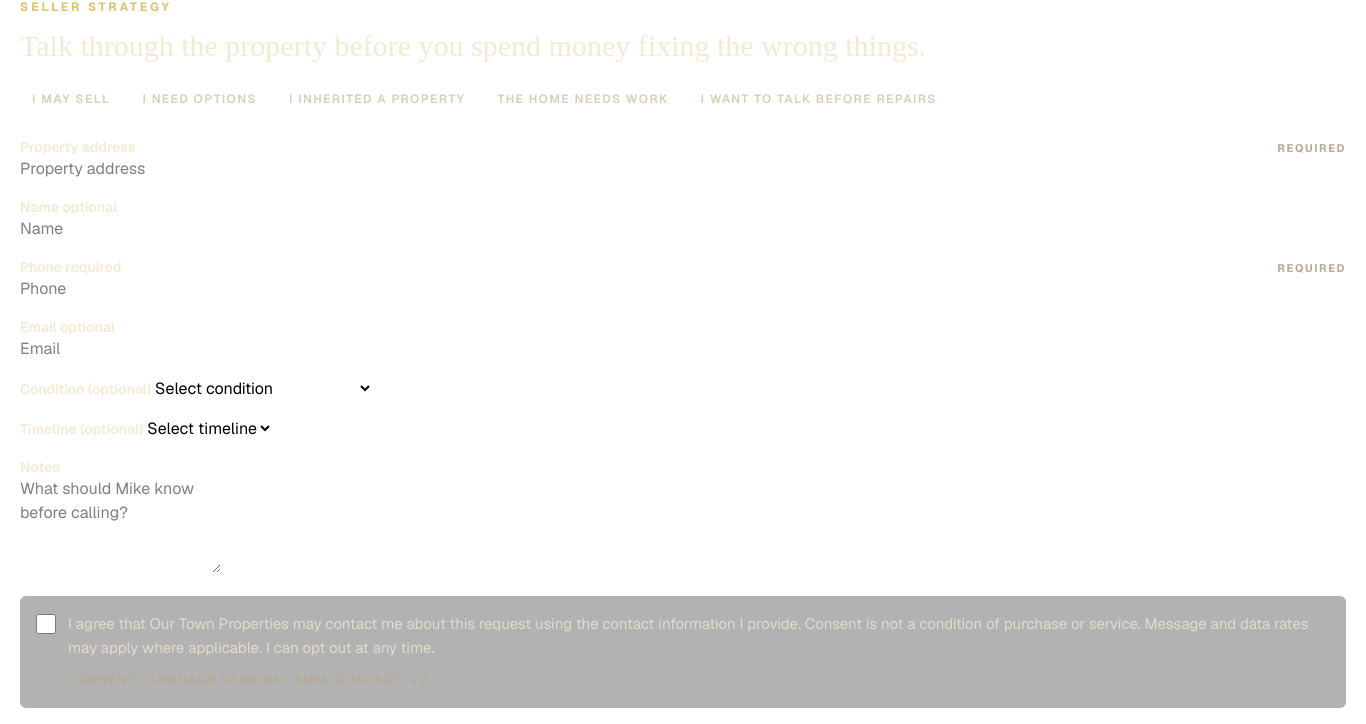
Test: seller funnel identity integrity › preserves eventless native values and uses a genuine saved receipt for the shared appointment CTA
Type "123 Synthetic Fixture Road, Wilson NC" into the field labelled "Property address" at (129, 168), box [20, 156, 238, 180]
Type "SYNTHETIC FIXTURE — NOT A CONSUMER" into the field labelled "Name optional" at (129, 228), box [20, 216, 238, 240]
Type "2525550194" into the field labelled "Phone required" at (129, 288), box [20, 276, 238, 300]
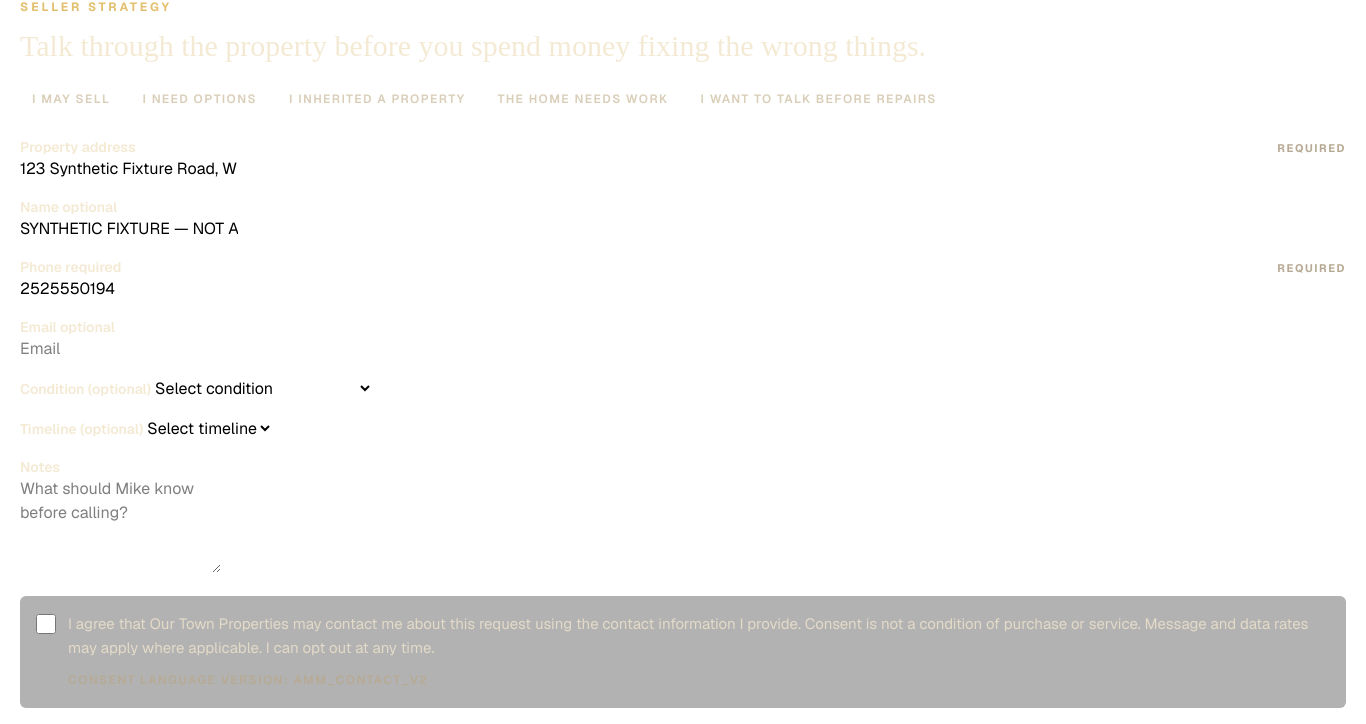
Replace the text in the field labelled "Name optional" with "SYNTHETIC native fixture" at (129, 228), box [20, 216, 238, 240]
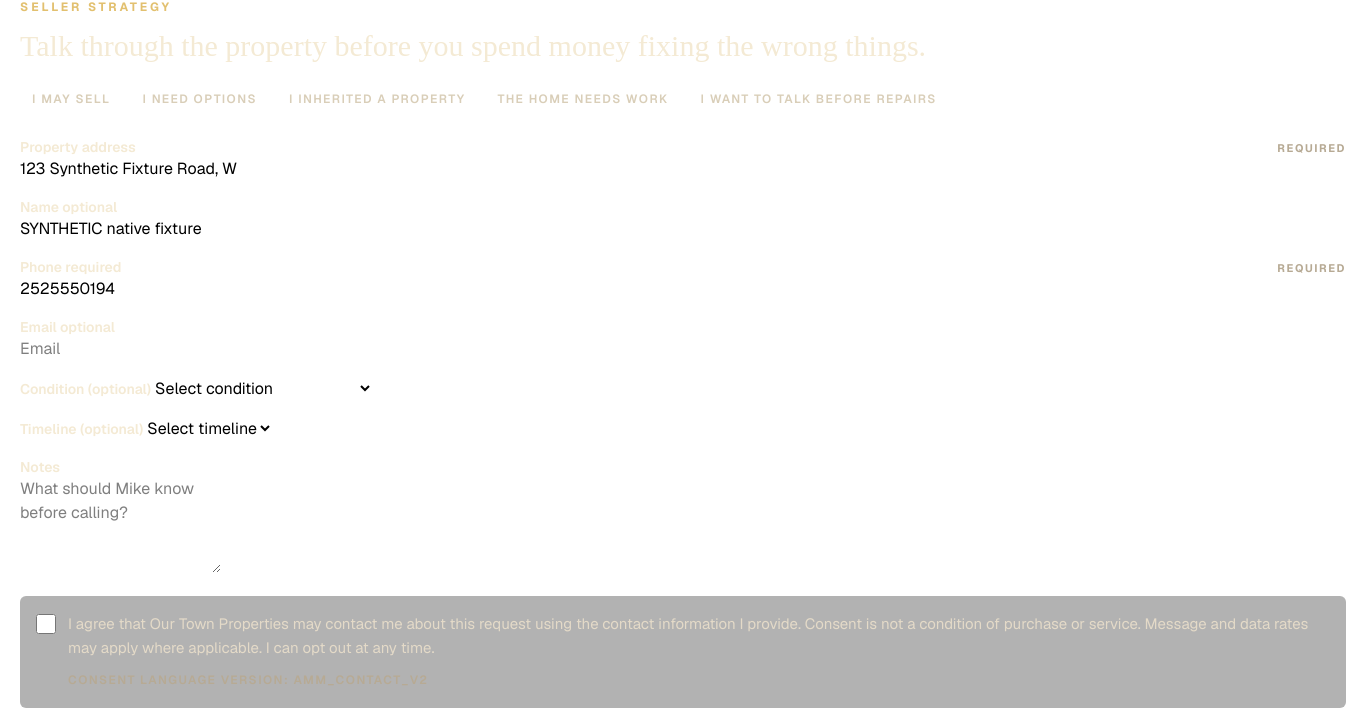
Type "seller-fixture@example.test" into the field labelled "Email optional" at (129, 348), box [20, 336, 238, 360]
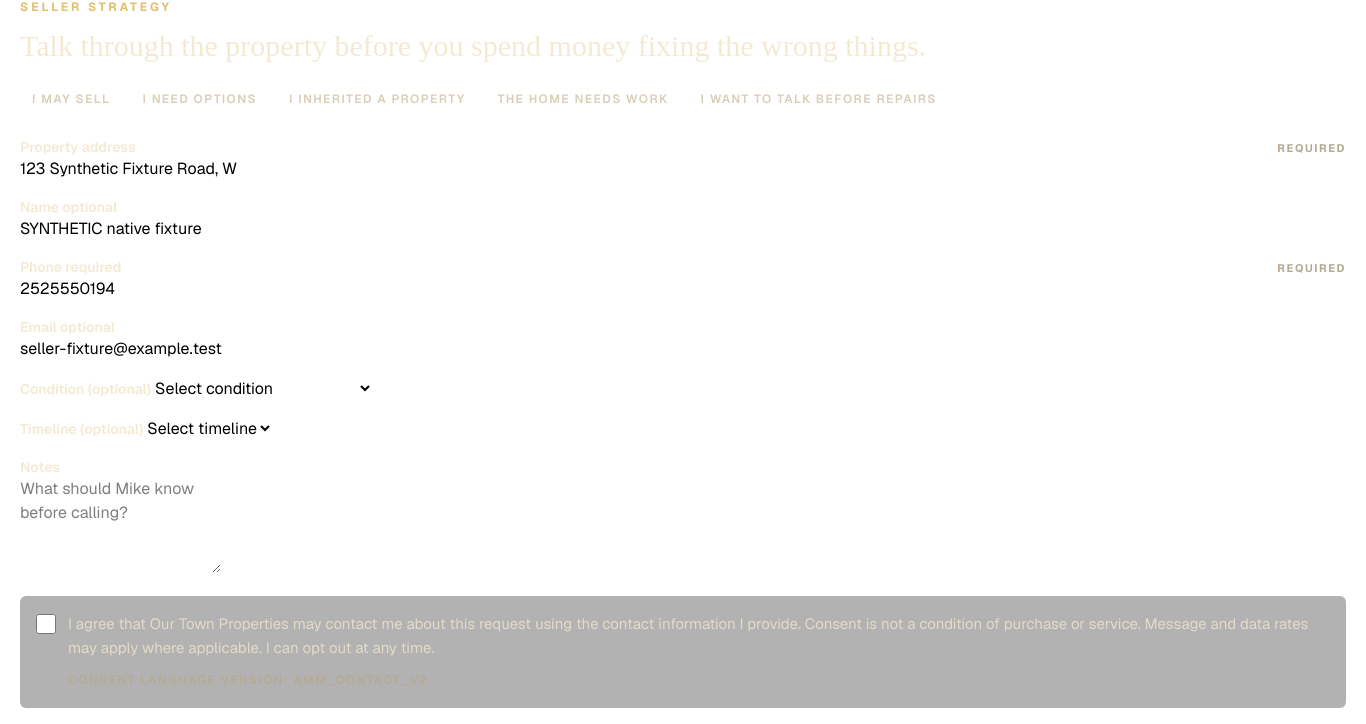
Click the checkbox labelled "Our Town Properties may contact me" at (46, 624), box [36, 614, 56, 634]
(page scrolled)
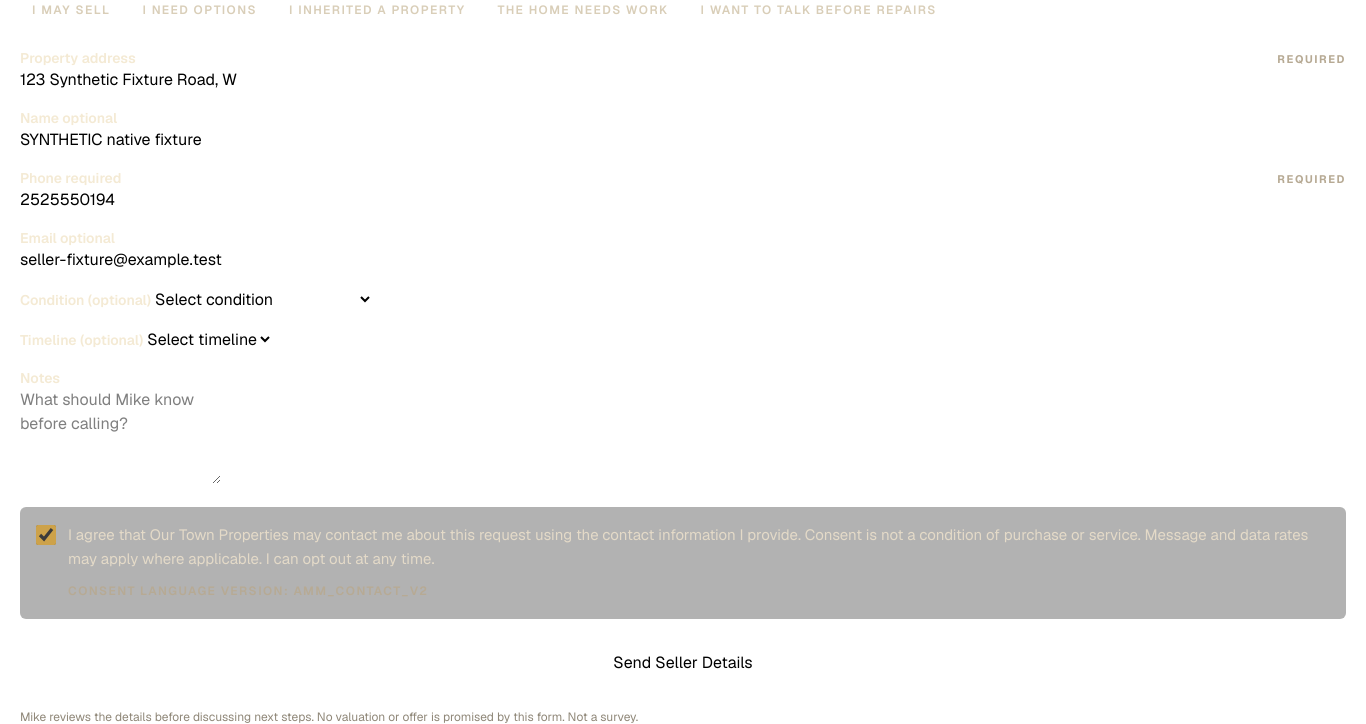
Click the button "Send Seller Details" at (683, 662), box [20, 634, 1346, 690]
(page scrolled)
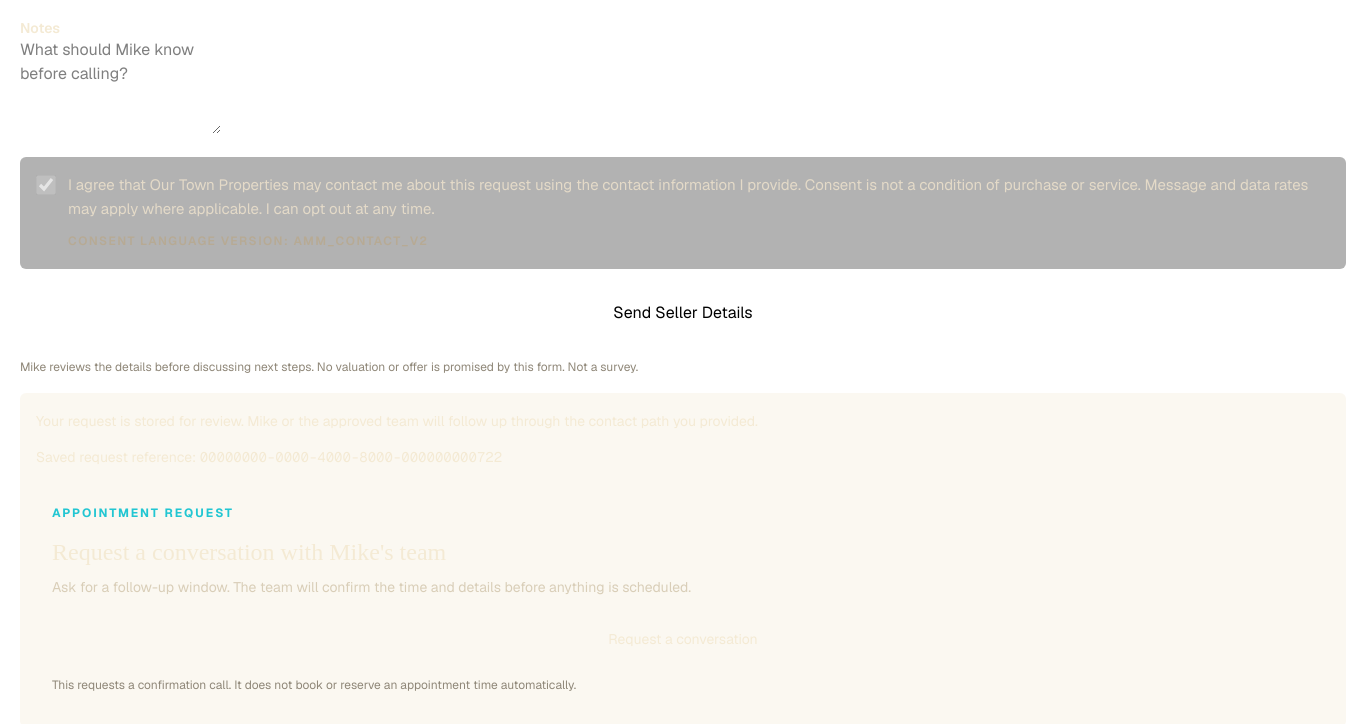
expect the text "Your request is stored for review. Mike or the approved team will follow up through the contact path you provided." is shown: met, box [36, 412, 758, 430]
Click the button "Request a conversation" at (683, 638), box [52, 614, 1314, 662]
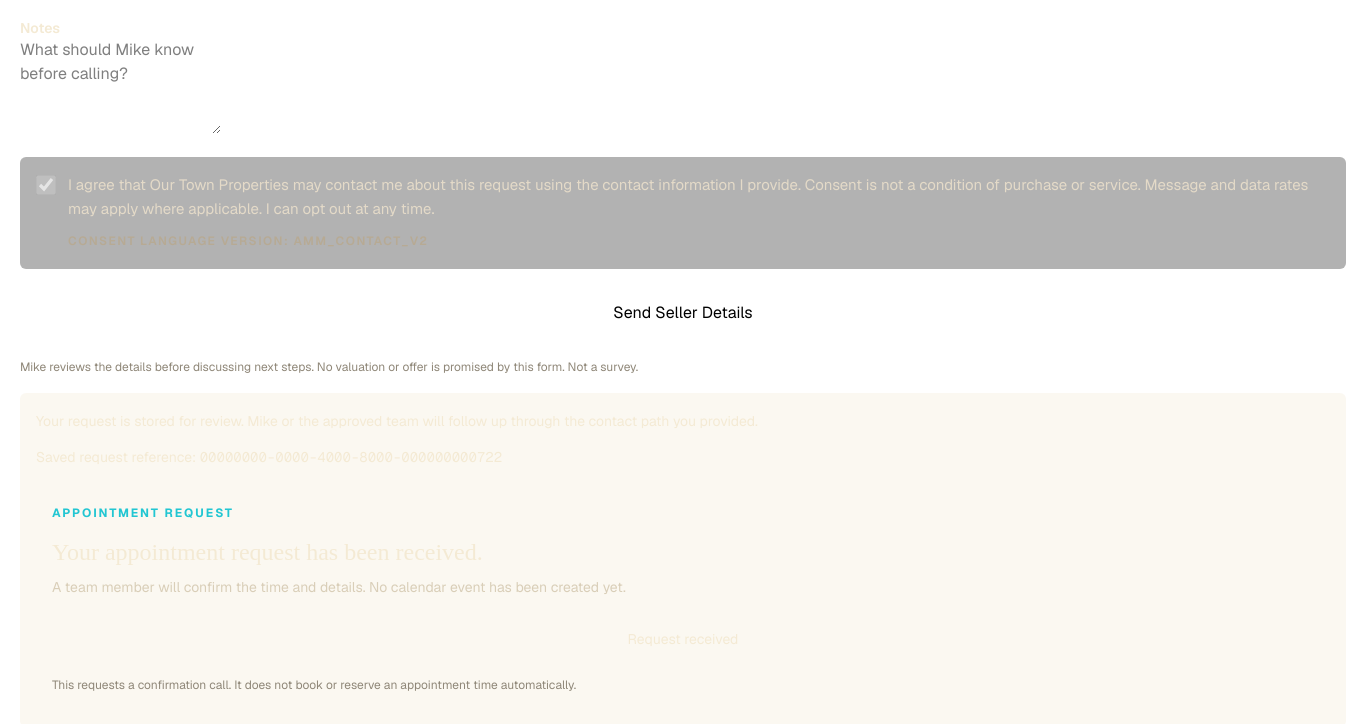
expect the heading "Your appointment request has been received." is shown: met, box [52, 538, 483, 564]
